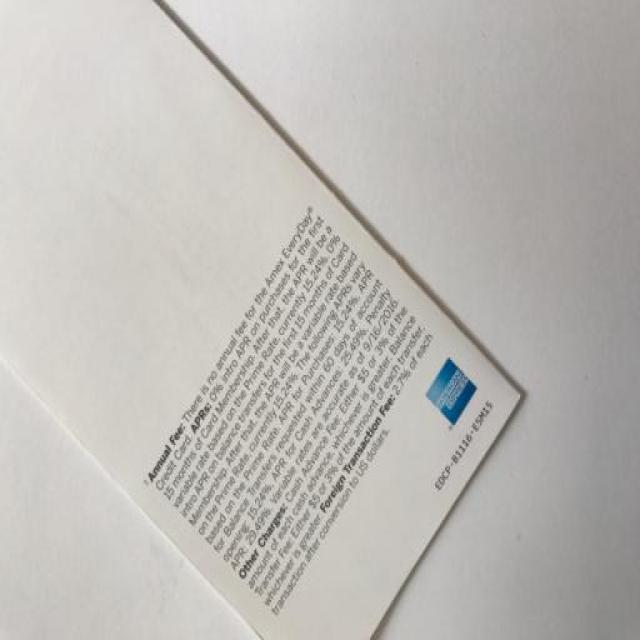paper: (3, 1, 533, 640)
